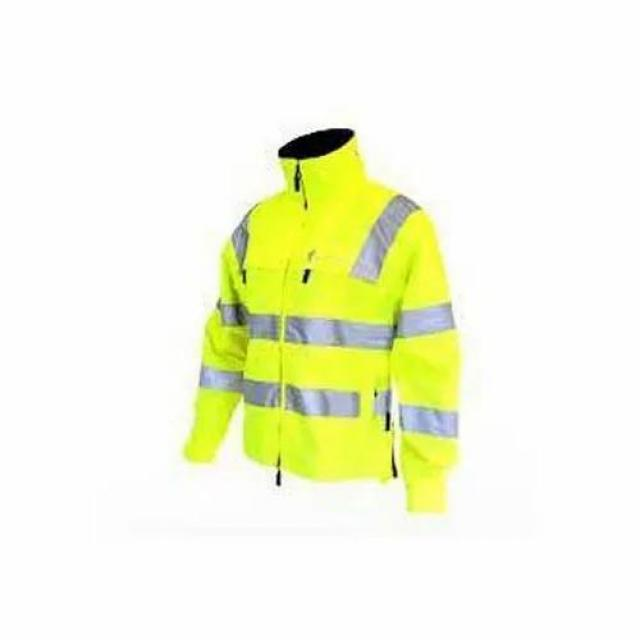Reflective-Jacket: (179, 166, 479, 507)
